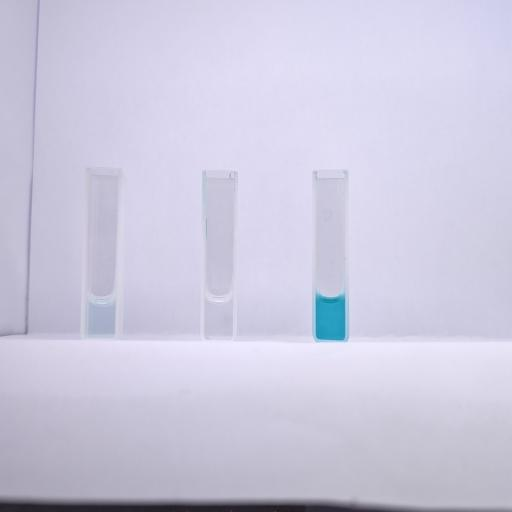cuvette: (81, 165, 126, 340), (310, 168, 352, 344), (199, 168, 241, 343)
liquid: (316, 293, 345, 340), (86, 294, 116, 336), (205, 294, 232, 338)
